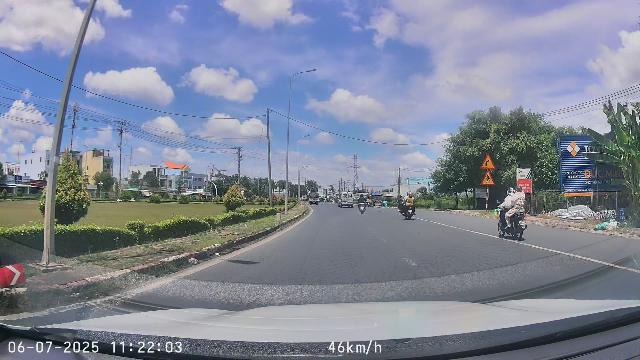201-cho-ngoat-nguy-hiem: (480, 153, 496, 169)
224-duong-nguoi-di-bo-cat-ngang: (480, 170, 495, 186)
